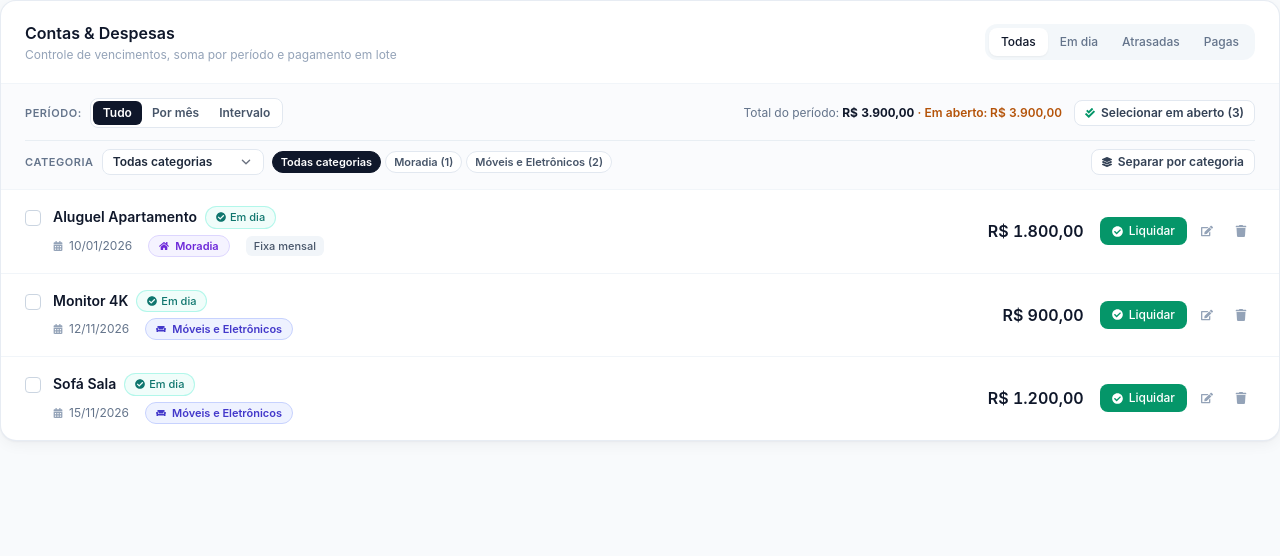
Test: QA Flows: Credit Cards, Recurring Projection & Scopes, VA/VR Batch/Close, Yields › ExpensesListSection projects recurring bills when filtering by month, filters unified Móveis e Eletrônicos category, and separates by category section
Click the button "Por mês": [176, 113] box 142,101 -> 209,125
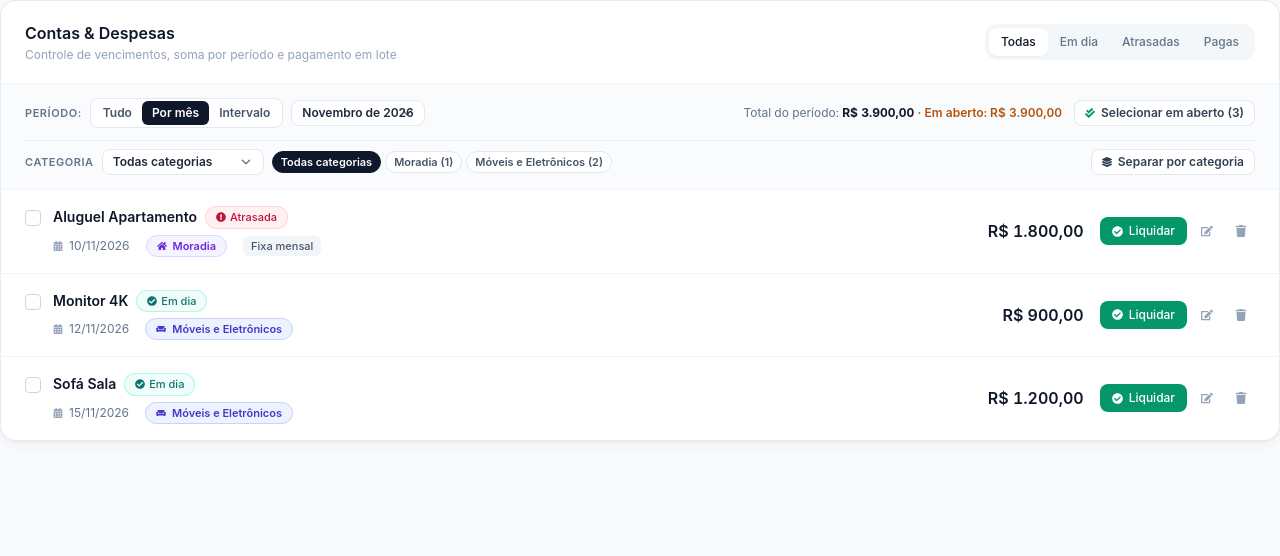
Expected: the heading "Aluguel Apartamento" is shown, 53,207 -> 197,227
// Filter unified Móveis e Eletrônicos category (combines Eletrônicos + Móveis)
Select "Móveis e Eletrônicos (2)" in the dropdown with test id "expense-category-filter-select": [183, 162] box 102,149 -> 264,175
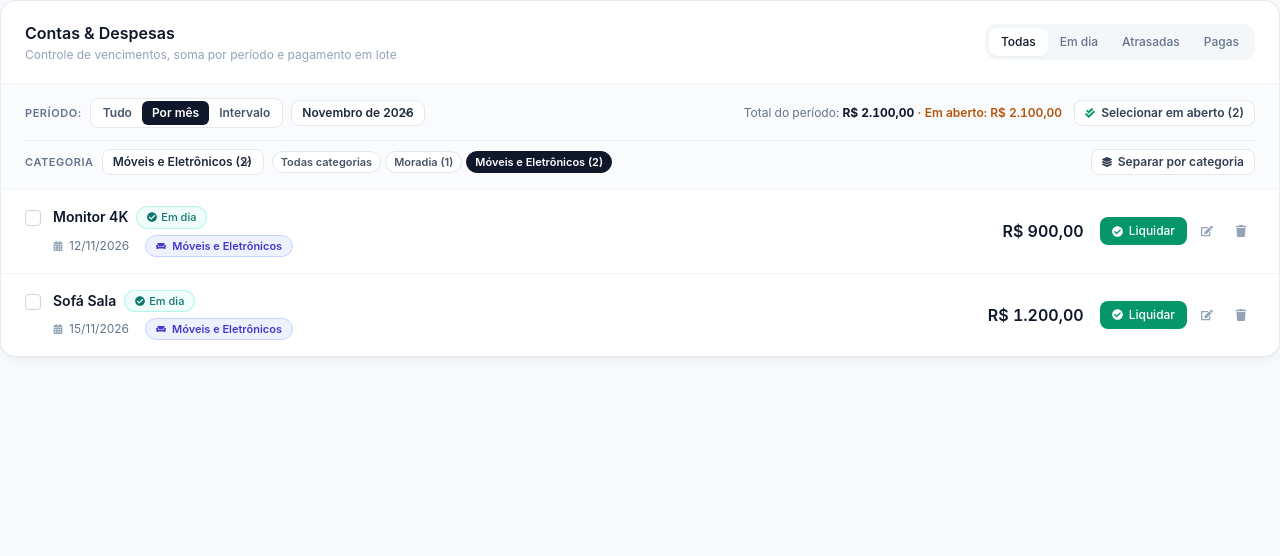
Expected: the heading "Monitor 4K" is shown, 53,207 -> 128,227
Expected: the heading "Aluguel Apartamento" is gone
// Reset filter and toggle Separated Category Sessions
Select "Todas categorias" in the dropdown with test id "expense-category-filter-select": [183, 162] box 102,149 -> 264,175
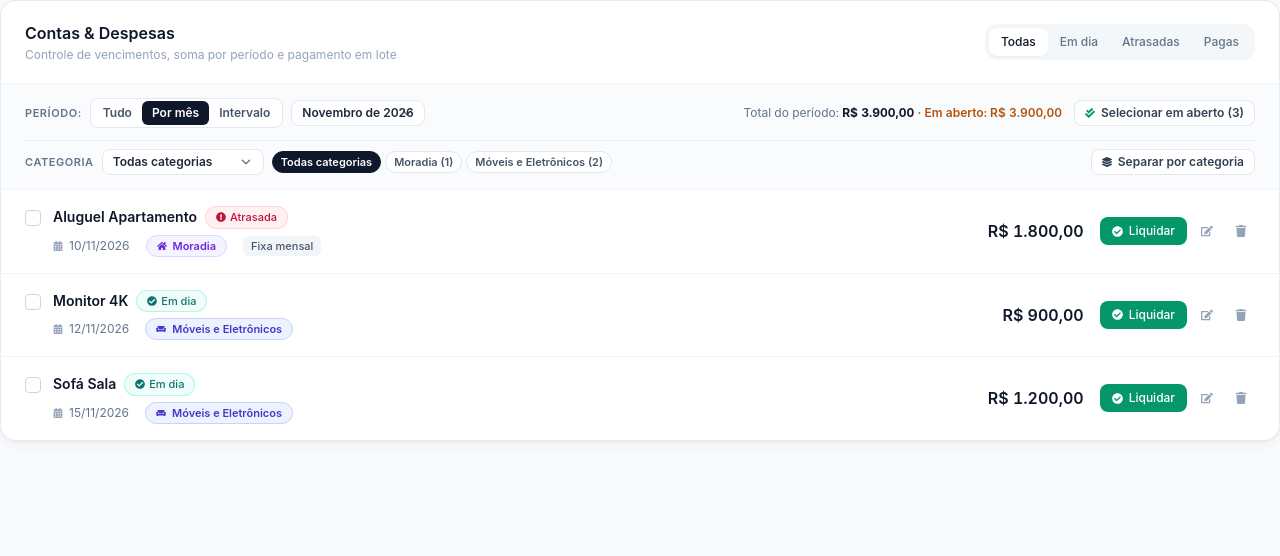
Click the button with test id "expense-group-by-category-toggle": [1173, 162] box 1091,149 -> 1255,175
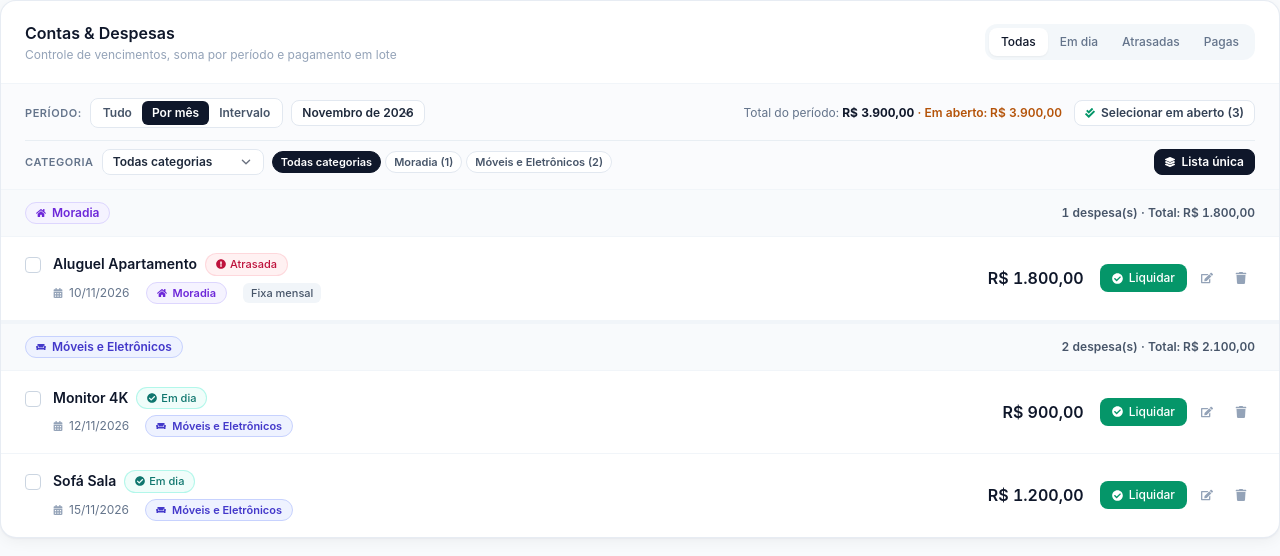
Expected: the element with test id "expense-category-section-Moradia" is shown, 1,190 -> 1279,320
Expected: the element with test id "expense-category-section-Móveis e Eletrônicos" is shown, 1,320 -> 1279,536
